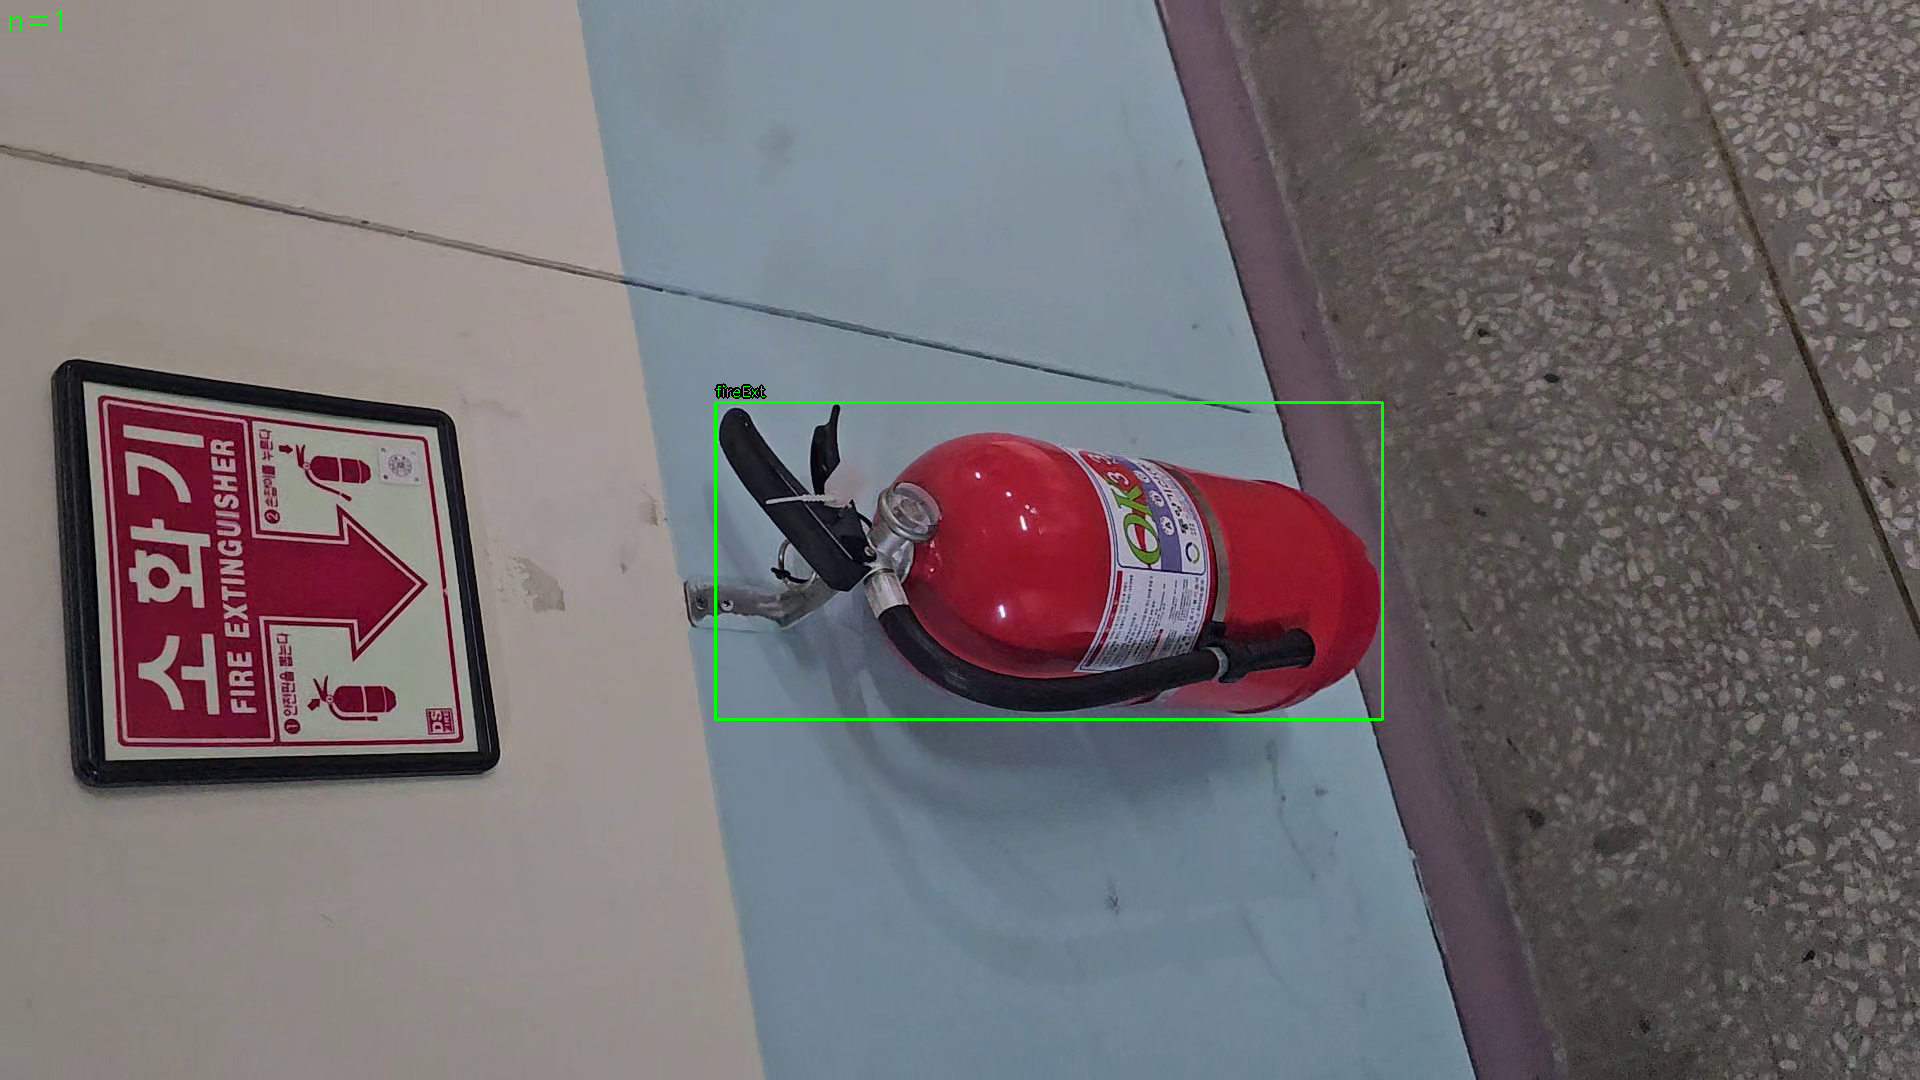lane: (715, 402, 1383, 720)
